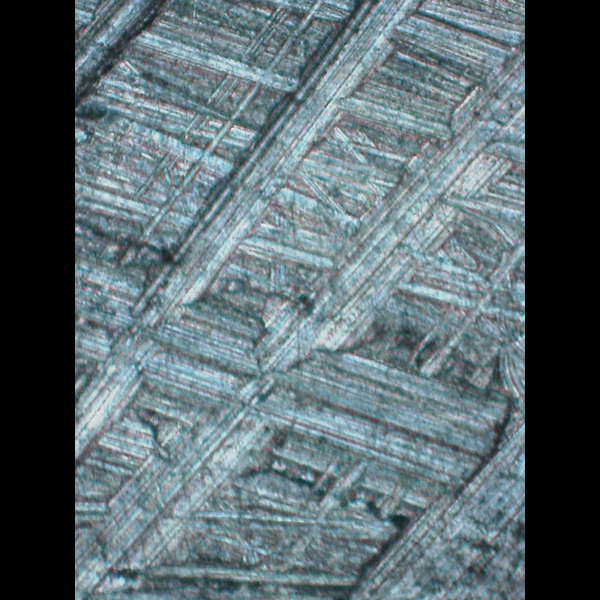d: (82, 15, 525, 591), (335, 399, 524, 599)
